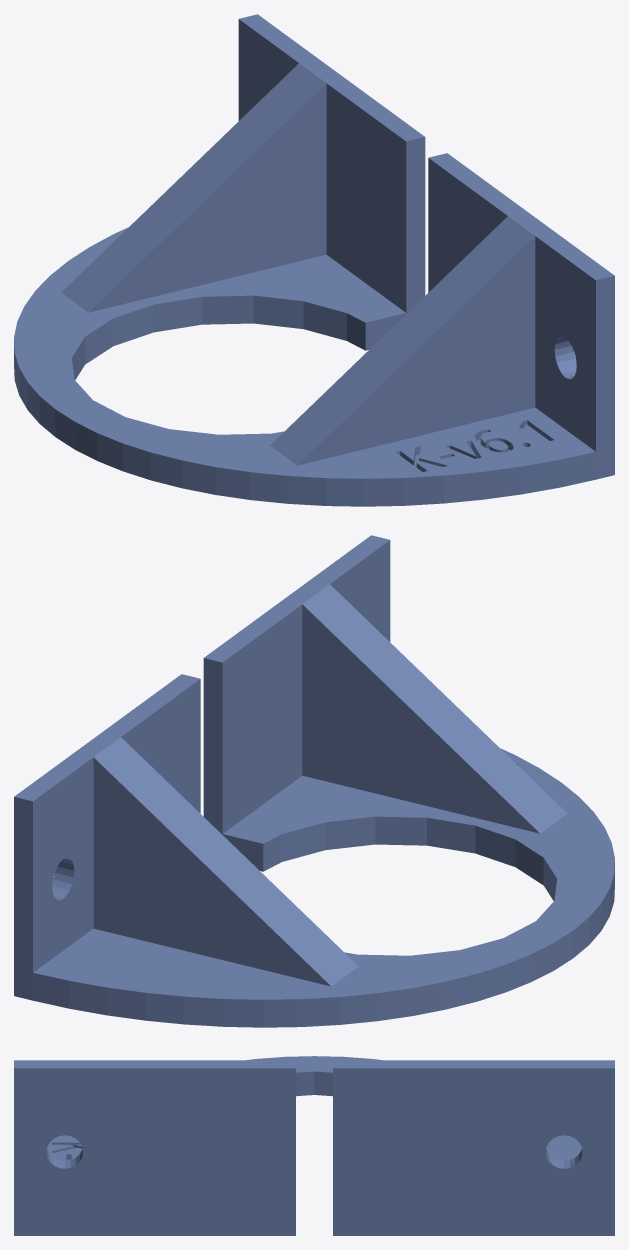
File: vertical-impact-button-f30-v6.1.glb
The picture shows the model from 3 angles, top to bottom: view 1: azimuth 30°, elevation 25°; view 2: azimuth 150°, elevation 25°; view 3: azimuth 270°, elevation 25°; orthographic projection. The views are drawn at different scales.
Visible parts, largest first — view 1: Mesh_Mesh_head_geo.001_lambert2SG.001; view 2: Mesh_Mesh_head_geo.001_lambert2SG.001; view 3: Mesh_Mesh_head_geo.001_lambert2SG.001.
Boxes of the visible parts, x1,y1,x2,y2 form: Mesh_Mesh_head_geo.001_lambert2SG.001: (14, 14, 614, 506); Mesh_Mesh_head_geo.001_lambert2SG.001: (14, 535, 614, 1027); Mesh_Mesh_head_geo.001_lambert2SG.001: (14, 1056, 614, 1235).
Size of the model in its own units: 0.04 by 0.02 by 0.065.
